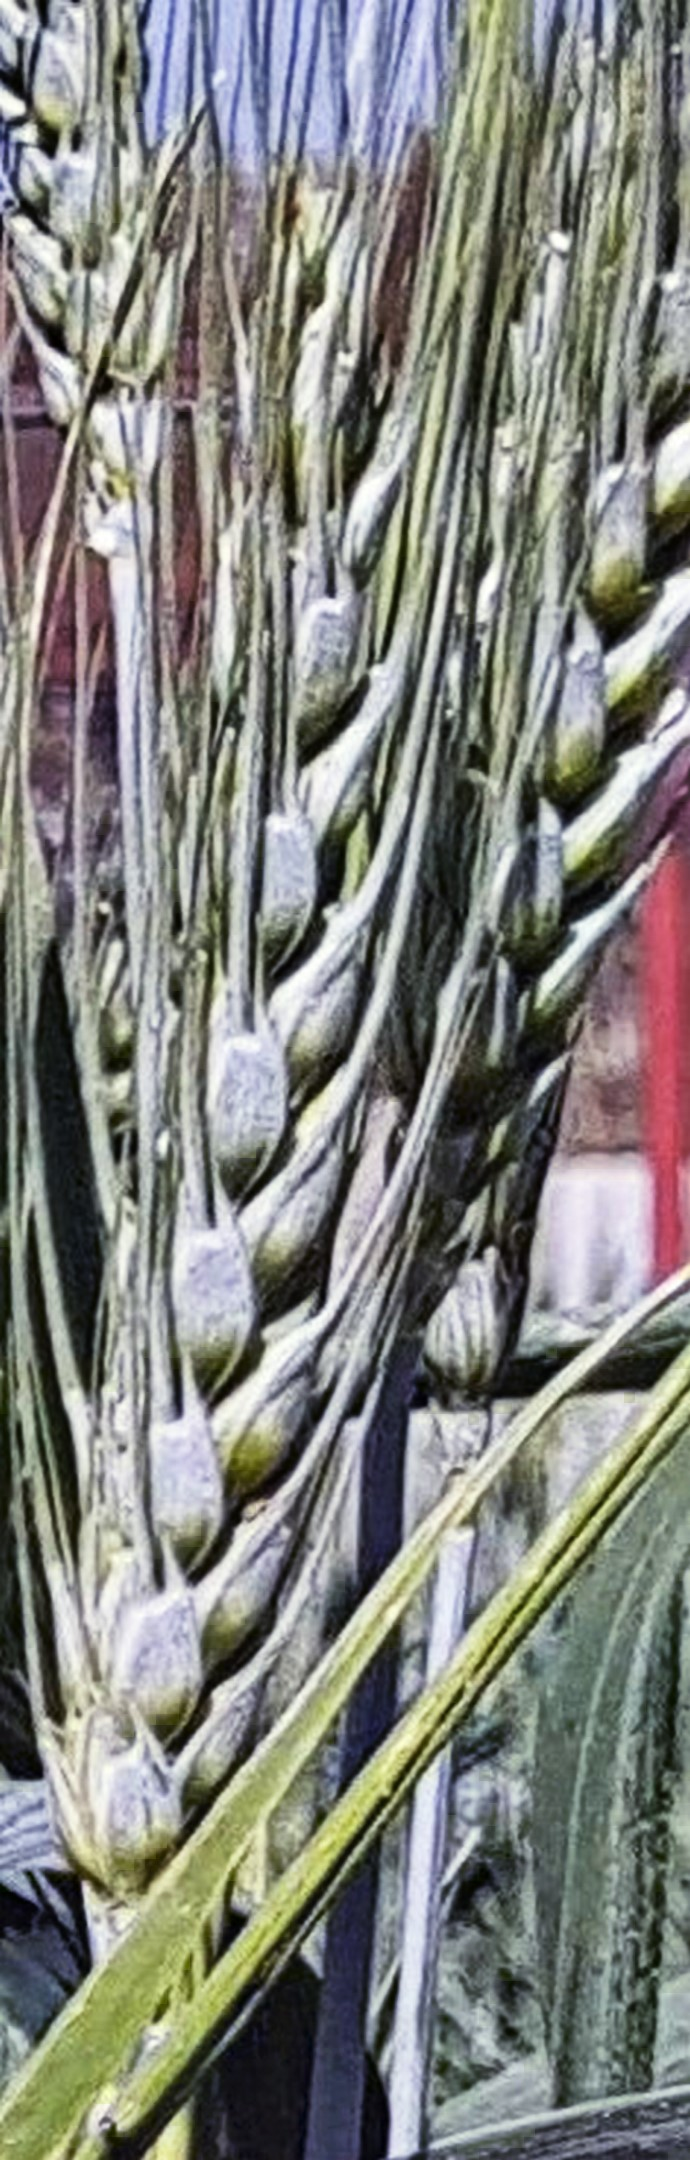Healthy Wheat: (85, 475, 494, 1905)
